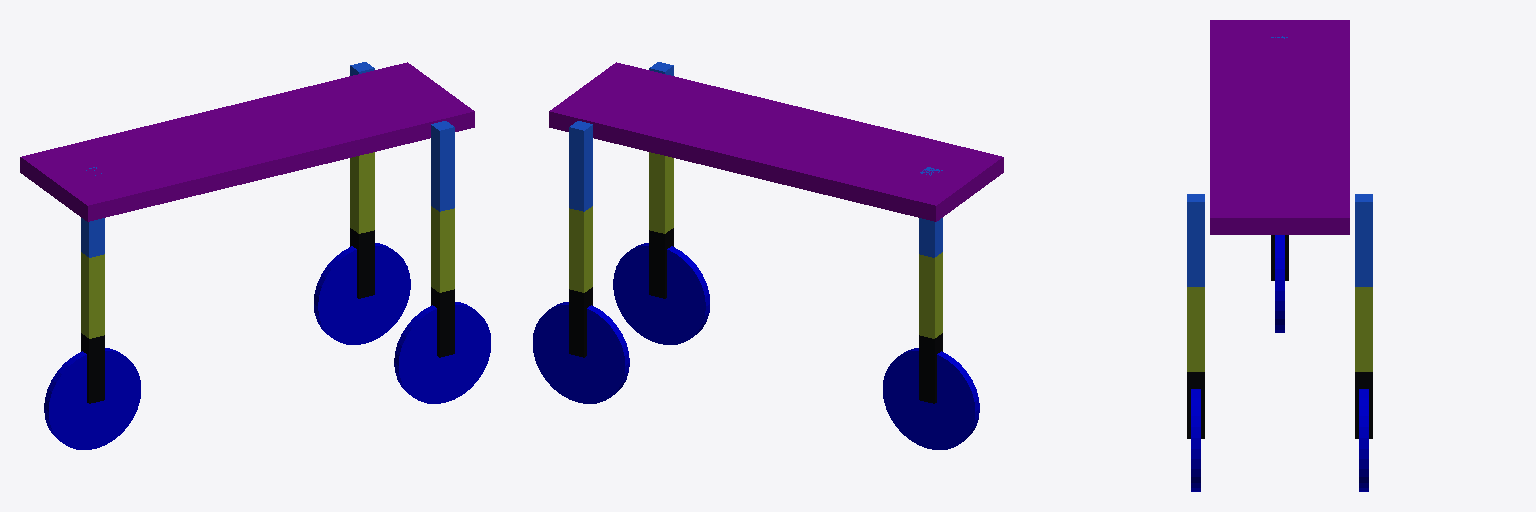
The robot description file, URDF, robot "robot":
<robot name="robot">
  <link name="base_footprint"></link>
  <joint name="base_joint" type="fixed">
    <parent link="base_footprint" />
    <child link="base_link" />
    <origin xyz="0 0 1.7" rpy="0 0 0" />
  </joint>
  <link name="base_link">
    <visual>
      <origin xyz="0 0 0" rpy="0 0 0" />
      <geometry>
        <box size="2.5 0.75 0.1" />
      </geometry>
      <material name="base_link-material">
        <color rgba="0.46207699964472876 0.026241221889696346 0.5711248294565854 1" />
      </material>
    </visual>
    <collision>
      <origin xyz="0 0 0" rpy="0 0 0" />
      <geometry>
        <box size="2.5 0.75 0.1" />
      </geometry>
    </collision>
    <inertial>
      <origin xyz="0 0 0" rpy="0 0 0" />
      <mass value="100" />
      <inertia ixx="10" ixy="0" ixz="0" iyy="10" iyz="0" izz="10" />
    </inertial>
  </link>
  <joint name="base_link_to_hipFL" type="fixed">
    <parent link="base_link" />
    <child link="hipFL" />
    <origin xyz="1 0.45 -0.2" rpy="0 0 0" />
  </joint>
  <link name="hipFL">
    <visual>
      <origin xyz="0 0 0" rpy="0 0 0" />
      <geometry>
        <box size="0.1 0.1 0.5" />
      </geometry>
      <material name="hipFL-material">
        <color rgba="0.12213877222015301 0.3515325994898463 0.8227857543924378 1" />
      </material>
    </visual>
    <collision>
      <origin xyz="0 0 0" rpy="0 0 0" />
      <geometry>
        <box size="0.1 0.1 0.5" />
      </geometry>
    </collision>
    <inertial>
      <origin xyz="0 0 0" rpy="0 0 0" />
      <mass value="1" />
      <inertia ixx="0.16666666666666666" ixy="0" ixz="0" iyy="0.16666666666666666" iyz="0" izz="0.16666666666666666" />
    </inertial>
  </link>
  <joint name="hipFL_to_legFL" type="prismatic">
    <parent link="hipFL" />
    <child link="legFL" />
    <origin xyz="0 0 -0.5" rpy="0 0 0" />
    <axis xyz="0 0 1"/>
    <limit effort="1000.0" lower="-1" upper="1" velocity="0.5"/>  </joint>
  <link name="legFL">
    <visual>
      <origin xyz="0 0 0" rpy="0 0 0" />
      <geometry>
        <box size="0.1 0.1 0.5" />
      </geometry>
      <material name="legFL-material">
        <color rgba="0.5209955731953768 0.6104955708001716 0.16513219449147767 1" />
      </material>
    </visual>
    <collision>
      <origin xyz="0 0 0" rpy="0 0 0" />
      <geometry>
        <box size="0.1 0.1 0.5" />
      </geometry>
    </collision>
    <inertial>
      <origin xyz="0 0 0" rpy="0 0 0" />
      <mass value="1" />
      <inertia ixx="0.16666666666666666" ixy="0" ixz="0" iyy="0.16666666666666666" iyz="0" izz="0.16666666666666666" />
    </inertial>
  </link>
  <joint name="legFL_to_feetFL" type="revolute">
    <parent link="legFL" />
    <child link="feetFL" />
    <origin xyz="0 0 -0.45" rpy="0 0 0" />
    <axis xyz="0 0 1"/>
    <limit effort="1000.0" lower="-1" upper="1" velocity="0.5"/>  </joint>
  <link name="feetFL">
    <visual>
      <origin xyz="0 0 0" rpy="0 0 0" />
      <geometry>
        <box size="0.1 0.1 0.4" />
      </geometry>
      <material name="feetFL-material">
        <color rgba="0.04817182422013895 0.05286064701616471 0.06480326668529614 1" />
      </material>
    </visual>
    <collision>
      <origin xyz="0 0 0" rpy="0 0 0" />
      <geometry>
        <box size="0.1 0.1 0.4" />
      </geometry>
    </collision>
    <inertial>
      <origin xyz="0 0 0" rpy="0 0 0" />
      <mass value="1" />
      <inertia ixx="0.16666666666666666" ixy="0" ixz="0" iyy="0.16666666666666666" iyz="0" izz="0.16666666666666666" />
    </inertial>
  </link>
  <joint name="feetFL_to_wheelFL" type="revolute">
    <parent link="feetFL" />
    <child link="wheelFL" />
    <origin xyz="0 0 -0.2" rpy="1.5707963267948963 0 0" />
    <axis xyz="0 0 1"/>
    <limit effort="1000.0" lower="-1" upper="1" velocity="0.5"/>  </joint>
  <link name="wheelFL">
    <visual>
      <origin xyz="0 0 0" rpy="0 0 0" />
      <geometry>
        <cylinder radius="0.3" length="0.05" />
      </geometry>
      <material name="wheelFL-material">
        <color rgba="0.004024717016506897 0.012286488353353374 0.8069522576650873 1" />
      </material>
    </visual>
    <collision>
      <origin xyz="0 0 0" rpy="0 0 0" />
      <geometry>
        <cylinder radius="0.3" length="0.05" />
      </geometry>
    </collision>
    <inertial>
      <origin xyz="0 0 0" rpy="0 0 0" />
      <mass value="1" />
      <inertia ixx="0.3333333333333333" ixy="0" ixz="0" iyy="0.5" iyz="0" izz="0.3333333333333333" />
    </inertial>
  </link>
  <joint name="base_link_to_hipFR" type="fixed">
    <parent link="base_link" />
    <child link="hipFR" />
    <origin xyz="1 -0.45 -0.2" rpy="0 0 0" />
  </joint>
  <link name="hipFR">
    <visual>
      <origin xyz="0 0 0" rpy="0 0 0" />
      <geometry>
        <box size="0.1 0.1 0.5" />
      </geometry>
      <material name="hipFR-material">
        <color rgba="0.12213877222015301 0.3515325994898463 0.8227857543924378 1" />
      </material>
    </visual>
    <collision>
      <origin xyz="0 0 0" rpy="0 0 0" />
      <geometry>
        <box size="0.1 0.1 0.5" />
      </geometry>
    </collision>
    <inertial>
      <origin xyz="0 0 0" rpy="0 0 0" />
      <mass value="1" />
      <inertia ixx="0.16666666666666666" ixy="0" ixz="0" iyy="0.16666666666666666" iyz="0" izz="0.16666666666666666" />
    </inertial>
  </link>
  <joint name="hipFR_to_legFR" type="prismatic">
    <parent link="hipFR" />
    <child link="legFR" />
    <origin xyz="0 0 -0.5" rpy="0 0 0" />
    <axis xyz="0 0 1"/>
    <limit effort="1000.0" lower="-1" upper="1" velocity="0.5"/>  </joint>
  <link name="legFR">
    <visual>
      <origin xyz="0 0 0" rpy="0 0 0" />
      <geometry>
        <box size="0.1 0.1 0.5" />
      </geometry>
      <material name="legFR-material">
        <color rgba="0.5209955731953768 0.6104955708001716 0.16513219449147767 1" />
      </material>
    </visual>
    <collision>
      <origin xyz="0 0 0" rpy="0 0 0" />
      <geometry>
        <box size="0.1 0.1 0.5" />
      </geometry>
    </collision>
    <inertial>
      <origin xyz="0 0 0" rpy="0 0 0" />
      <mass value="1" />
      <inertia ixx="0.16666666666666666" ixy="0" ixz="0" iyy="0.16666666666666666" iyz="0" izz="0.16666666666666666" />
    </inertial>
  </link>
  <joint name="legFR_to_feetFR" type="revolute">
    <parent link="legFR" />
    <child link="feetFR" />
    <origin xyz="0 0 -0.45" rpy="0 0 0" />
    <axis xyz="0 0 1"/>
    <limit effort="1000.0" lower="-1" upper="1" velocity="0.5"/>  </joint>
  <link name="feetFR">
    <visual>
      <origin xyz="0 0 0" rpy="0 0 0" />
      <geometry>
        <box size="0.1 0.1 0.4" />
      </geometry>
      <material name="feetFR-material">
        <color rgba="0.04817182422013895 0.05286064701616471 0.06480326668529614 1" />
      </material>
    </visual>
    <collision>
      <origin xyz="0 0 0" rpy="0 0 0" />
      <geometry>
        <box size="0.1 0.1 0.4" />
      </geometry>
    </collision>
    <inertial>
      <origin xyz="0 0 0" rpy="0 0 0" />
      <mass value="1" />
      <inertia ixx="0.16666666666666666" ixy="0" ixz="0" iyy="0.16666666666666666" iyz="0" izz="0.16666666666666666" />
    </inertial>
  </link>
  <joint name="feetFR_to_wheelFR" type="revolute">
    <parent link="feetFR" />
    <child link="wheelFR" />
    <origin xyz="0 0 -0.2" rpy="1.5707963267948963 0 0" />
    <axis xyz="0 0 1"/>
    <limit effort="1000.0" lower="-1" upper="1" velocity="0.5"/>  </joint>
  <link name="wheelFR">
    <visual>
      <origin xyz="0 0 0" rpy="0 0 0" />
      <geometry>
        <cylinder radius="0.3" length="0.05" />
      </geometry>
      <material name="wheelFR-material">
        <color rgba="0.004024717016506897 0.012286488353353374 0.8069522576650873 1" />
      </material>
    </visual>
    <collision>
      <origin xyz="0 0 0" rpy="0 0 0" />
      <geometry>
        <cylinder radius="0.3" length="0.05" />
      </geometry>
    </collision>
    <inertial>
      <origin xyz="0 0 0" rpy="0 0 0" />
      <mass value="1" />
      <inertia ixx="0.3333333333333333" ixy="0" ixz="0" iyy="0.5" iyz="0" izz="0.3333333333333333" />
    </inertial>
  </link>
  <joint name="base_link_to_hipB" type="fixed">
    <parent link="base_link" />
    <child link="hipB" />
    <origin xyz="-1 0 -0.2" rpy="0 0 0" />
  </joint>
  <link name="hipB">
    <visual>
      <origin xyz="0 0 0" rpy="0 0 0" />
      <geometry>
        <box size="0.1 0.1 0.5" />
      </geometry>
      <material name="hipB-material">
        <color rgba="0.12213877222015301 0.3515325994898463 0.8227857543924378 1" />
      </material>
    </visual>
    <collision>
      <origin xyz="0 0 0" rpy="0 0 0" />
      <geometry>
        <box size="0.1 0.1 0.5" />
      </geometry>
    </collision>
    <inertial>
      <origin xyz="0 0 0" rpy="0 0 0" />
      <mass value="1" />
      <inertia ixx="0.16666666666666666" ixy="0" ixz="0" iyy="0.16666666666666666" iyz="0" izz="0.16666666666666666" />
    </inertial>
  </link>
  <joint name="hipB_to_legB" type="fixed">
    <parent link="hipB" />
    <child link="legB" />
    <origin xyz="0 0 -0.5" rpy="0 0 0" />
  </joint>
  <link name="legB">
    <visual>
      <origin xyz="0 0 0" rpy="0 0 0" />
      <geometry>
        <box size="0.1 0.1 0.5" />
      </geometry>
      <material name="legB-material">
        <color rgba="0.5209955731953768 0.6104955708001716 0.16513219449147767 1" />
      </material>
    </visual>
    <collision>
      <origin xyz="0 0 0" rpy="0 0 0" />
      <geometry>
        <box size="0.1 0.1 0.5" />
      </geometry>
    </collision>
    <inertial>
      <origin xyz="0 0 0" rpy="0 0 0" />
      <mass value="1" />
      <inertia ixx="0.16666666666666666" ixy="0" ixz="0" iyy="0.16666666666666666" iyz="0" izz="0.16666666666666666" />
    </inertial>
  </link>
  <joint name="legB_to_feetB" type="fixed">
    <parent link="legB" />
    <child link="feetB" />
    <origin xyz="0 0 -0.45" rpy="0 0 0" />
  </joint>
  <link name="feetB">
    <visual>
      <origin xyz="0 0 0" rpy="0 0 0" />
      <geometry>
        <box size="0.1 0.1 0.4" />
      </geometry>
      <material name="feetB-material">
        <color rgba="0.04817182422013895 0.05286064701616471 0.06480326668529614 1" />
      </material>
    </visual>
    <collision>
      <origin xyz="0 0 0" rpy="0 0 0" />
      <geometry>
        <box size="0.1 0.1 0.4" />
      </geometry>
    </collision>
    <inertial>
      <origin xyz="0 0 0" rpy="0 0 0" />
      <mass value="1" />
      <inertia ixx="0.16666666666666666" ixy="0" ixz="0" iyy="0.16666666666666666" iyz="0" izz="0.16666666666666666" />
    </inertial>
  </link>
  <joint name="feetB_to_wheelB" type="revolute">
    <parent link="feetB" />
    <child link="wheelB" />
    <origin xyz="0 0 -0.2" rpy="1.5707963267948963 0 0" />
    <axis xyz="0 0 1"/>
    <limit effort="1000.0" lower="-1" upper="1" velocity="0.5"/>  </joint>
  <link name="wheelB">
    <visual>
      <origin xyz="0 0 0" rpy="0 0 0" />
      <geometry>
        <cylinder radius="0.3" length="0.05" />
      </geometry>
      <material name="wheelB-material">
        <color rgba="0.004024717016506897 0.012286488353353374 0.8069522576650873 1" />
      </material>
    </visual>
    <collision>
      <origin xyz="0 0 0" rpy="0 0 0" />
      <geometry>
        <cylinder radius="0.3" length="0.05" />
      </geometry>
    </collision>
    <inertial>
      <origin xyz="0 0 0" rpy="0 0 0" />
      <mass value="1" />
      <inertia ixx="0.3333333333333333" ixy="0" ixz="0" iyy="0.5" iyz="0" izz="0.3333333333333333" />
    </inertial>
  </link>
</robot>

--- What the picture shows (computed from the rendered views, not written in the file) ---
3 views of the same robot in one strip: view 1: azimuth 30°, elevation 25°; view 2: azimuth 150°, elevation 25°; view 3: azimuth 270°, elevation 25° (orthographic).
Model robot with 14 links and 13 joints (5 revolute, 2 prismatic, 6 fixed), rooted at base_footprint, posed all joints at 0.
Links seen in each view (by area): view 1: base_link, wheelFL, wheelFR, wheelB, hipFR, legFR, legB, legFL, feetFL, feetB, feetFR, hipB; view 2: base_link, wheelFR, wheelFL, wheelB, hipFL, legFL, legB, legFR, feetFR, feetB, feetFL, hipB; view 3: base_link, hipFL, hipFR, legFL, legFR, wheelFL, wheelFR, wheelB, feetFL, feetFR.
Boxes of the visible links, box(x1,y1,x2,y2) form: base_link: box(20, 62, 474, 221); wheelFL: box(314, 243, 410, 344); wheelFR: box(394, 302, 490, 403); wheelB: box(44, 348, 140, 449); hipFR: box(431, 121, 454, 211); legFR: box(431, 206, 454, 292); legB: box(81, 252, 104, 338); legFL: box(350, 152, 374, 233); feetFL: box(350, 228, 374, 298); feetB: box(81, 333, 104, 403); feetFR: box(431, 287, 454, 357); hipB: box(81, 167, 104, 257); base_link: box(549, 62, 1003, 221); wheelFR: box(613, 243, 709, 344); wheelFL: box(533, 302, 629, 403); wheelB: box(883, 348, 979, 449); hipFL: box(569, 121, 592, 211); legFL: box(569, 206, 592, 292); legB: box(919, 252, 942, 338); legFR: box(649, 152, 673, 233); feetFR: box(649, 228, 673, 298); feetB: box(919, 333, 942, 403); feetFL: box(569, 287, 592, 357); hipB: box(919, 167, 942, 257); base_link: box(1210, 20, 1349, 234); hipFL: box(1355, 194, 1372, 286); hipFR: box(1187, 194, 1204, 286); legFL: box(1355, 287, 1372, 371); legFR: box(1187, 287, 1204, 371); wheelFL: box(1359, 389, 1368, 491); wheelFR: box(1191, 389, 1200, 491); wheelB: box(1275, 235, 1284, 332); feetFL: box(1355, 372, 1372, 438); feetFR: box(1187, 372, 1204, 438).
Size in the robot's own frame: 2.6 by 1 by 1.7 metres.
Geometry: primitives only (box / cylinder / sphere), no mesh files.